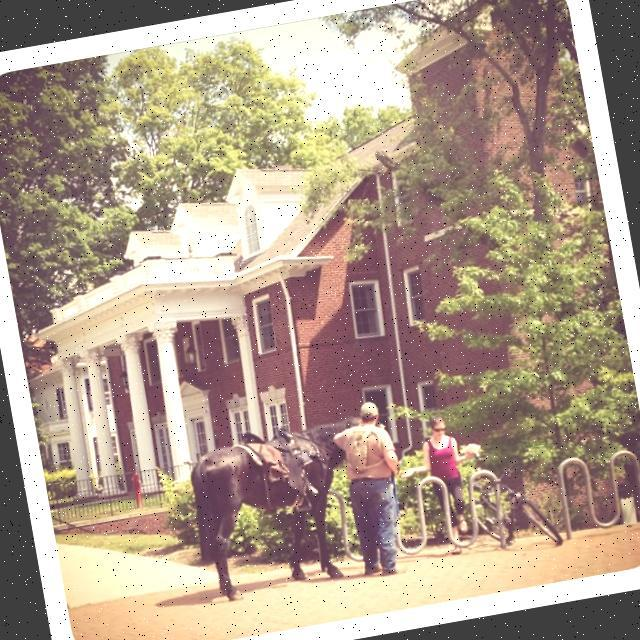fire_hydrant: (130, 471, 145, 508)
